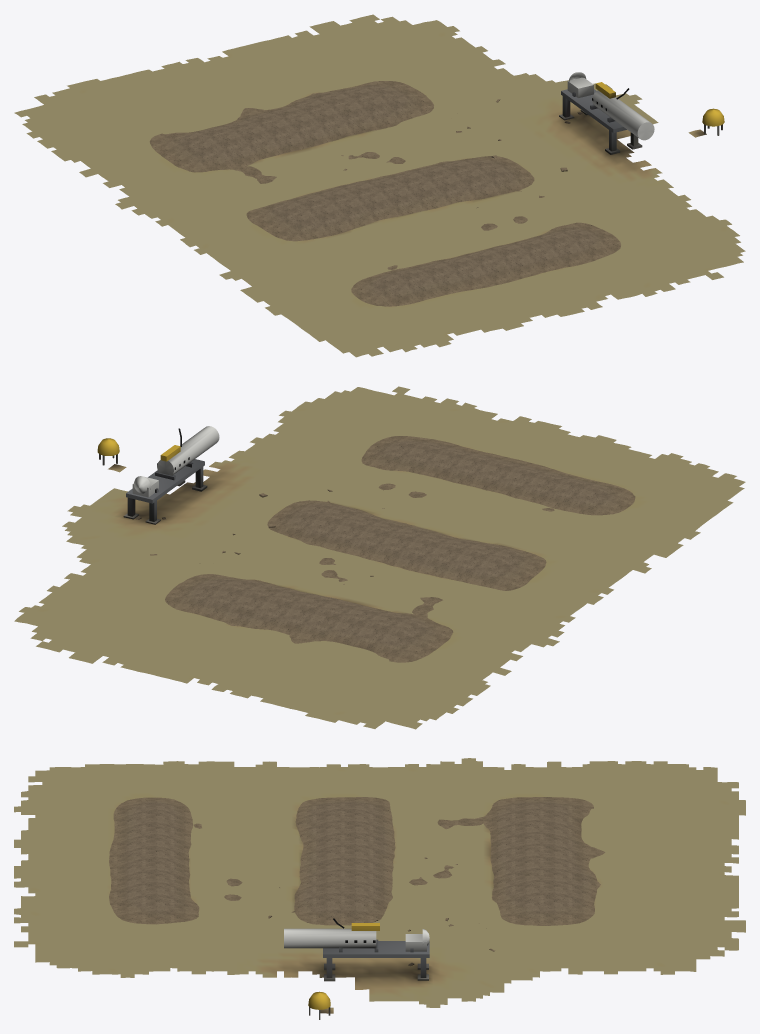
3 renders of one model, top to bottom at view 1: azimuth 30°, elevation 25°; view 2: azimuth 150°, elevation 25°; view 3: azimuth 270°, elevation 25°, orthographic.
Visible parts, largest first — view 1: sediment, reef, habitat; view 2: sediment, reef, habitat; view 3: sediment, reef, habitat.
Part boxes in pixels (x1,y1,x2,y2): sediment: [14, 14, 745, 357]; reef: [149, 81, 620, 306]; habitat: [559, 72, 654, 154]; sediment: [14, 386, 745, 729]; reef: [165, 436, 635, 662]; habitat: [123, 426, 219, 524]; sediment: [14, 758, 745, 1013]; reef: [109, 797, 605, 925]; habitat: [284, 918, 429, 981].
Bounding box in the file's own units: 87.6 × 9.34 × 103.
Materials: 3 (1 with a texture image).
